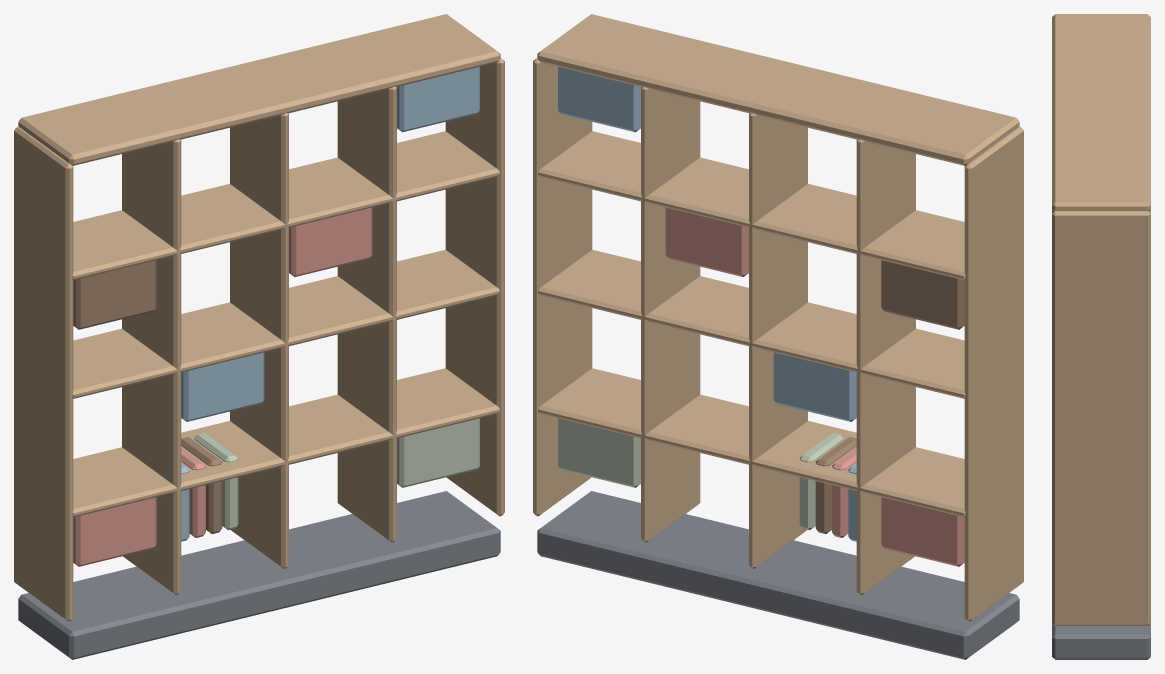
Rendered from OpenShelfRoomDivider.glb.
3 renders of one model, left to right at view 1: azimuth 30°, elevation 25°; view 2: azimuth 150°, elevation 25°; view 3: azimuth 270°, elevation 25°, orthographic. The views are drawn at different scales.
Visible parts, largest first — view 1: OpenShelfRoomDivider_Body; view 2: OpenShelfRoomDivider_Body; view 3: OpenShelfRoomDivider_Body.
Part boxes in pixels (box(x1,y1,x2,y2)): OpenShelfRoomDivider_Body: box(14, 14, 504, 659); OpenShelfRoomDivider_Body: box(533, 14, 1023, 659); OpenShelfRoomDivider_Body: box(1052, 14, 1150, 659).
Size of the model in its own units: 1.63 by 1.79 by 0.35.
